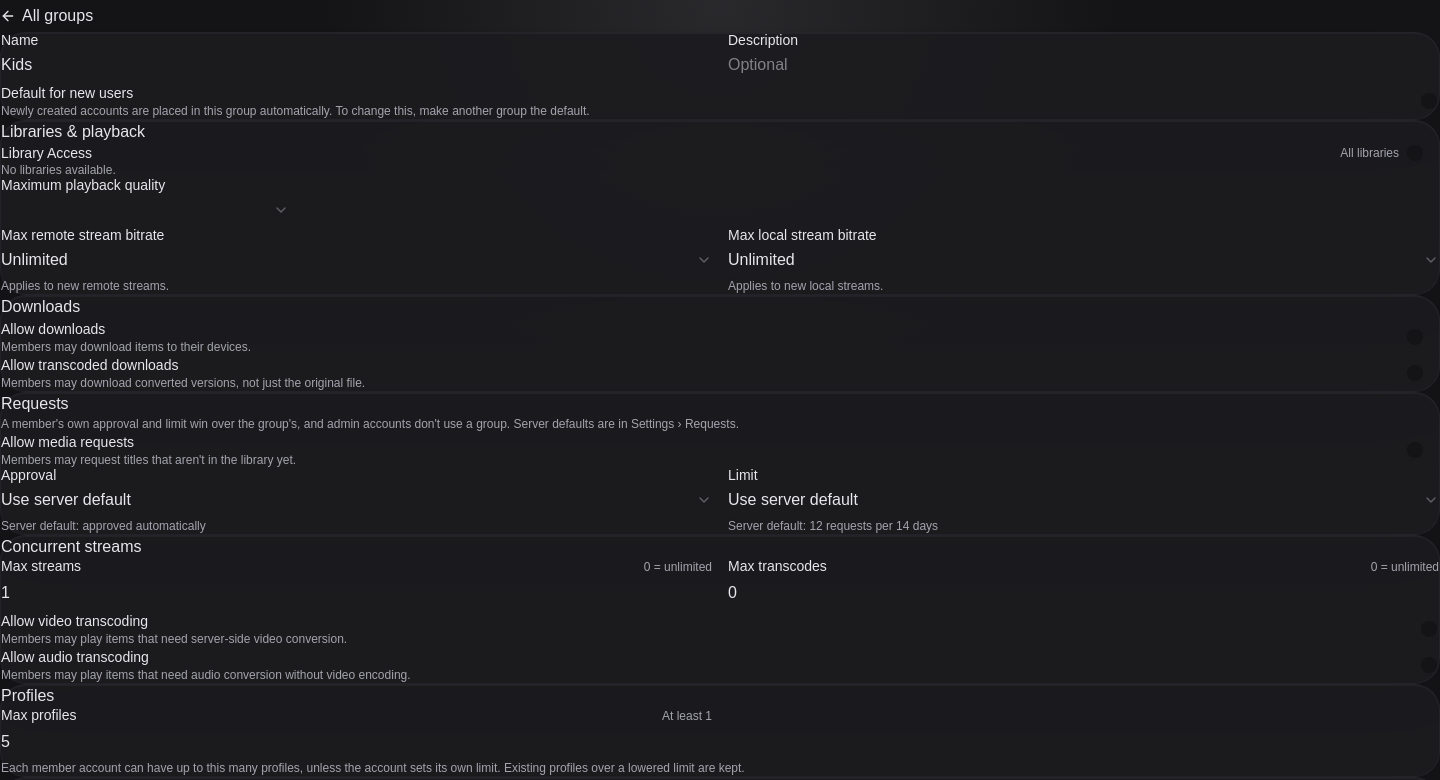
AdminAccessGroups › locks demotion and deletion for the default group
Expected: the field labelled "Name" holds "Kids", [1, 47, 712, 83]
Click the button "All groups" at (47, 16), box [0, 0, 93, 32]
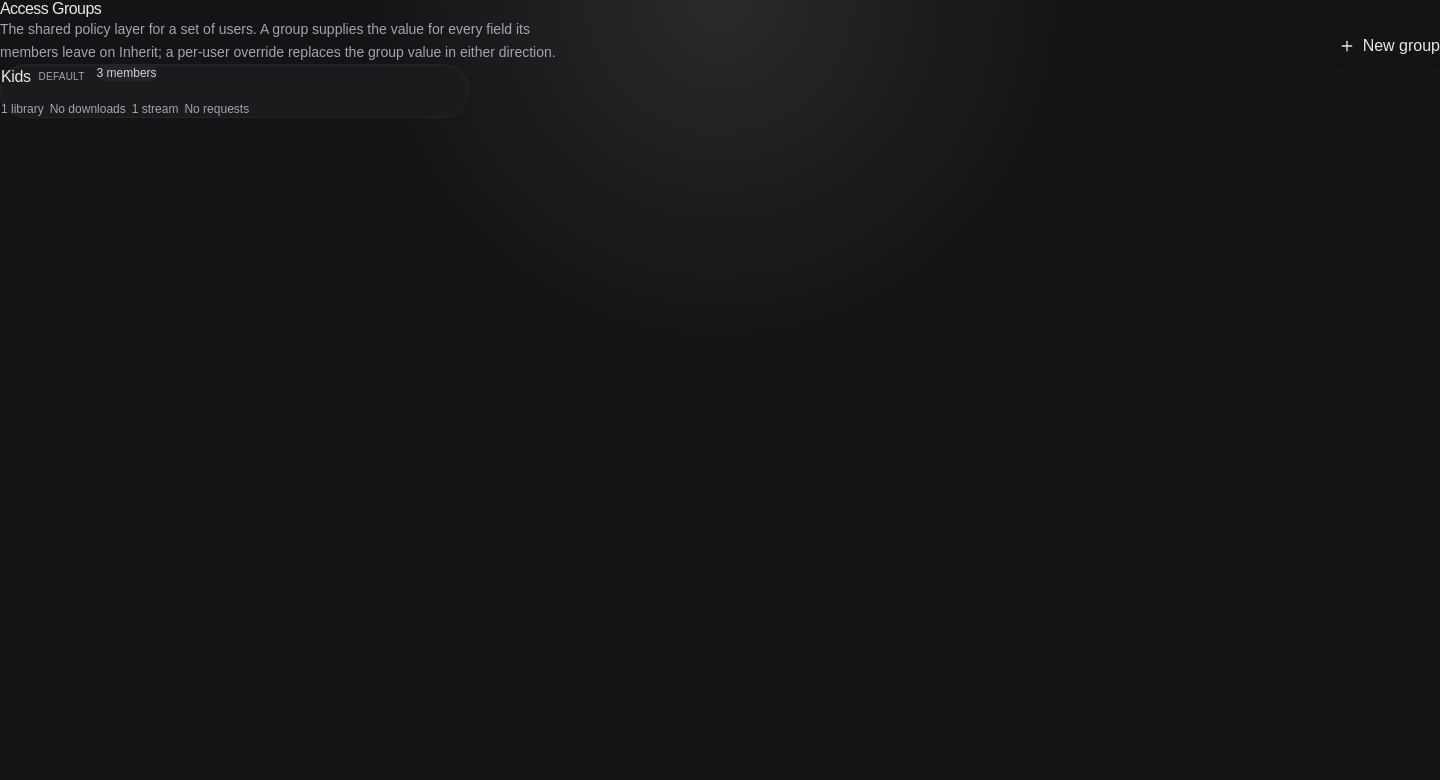
Expected: the heading "Access Groups" is shown, [0, 0, 101, 17]
